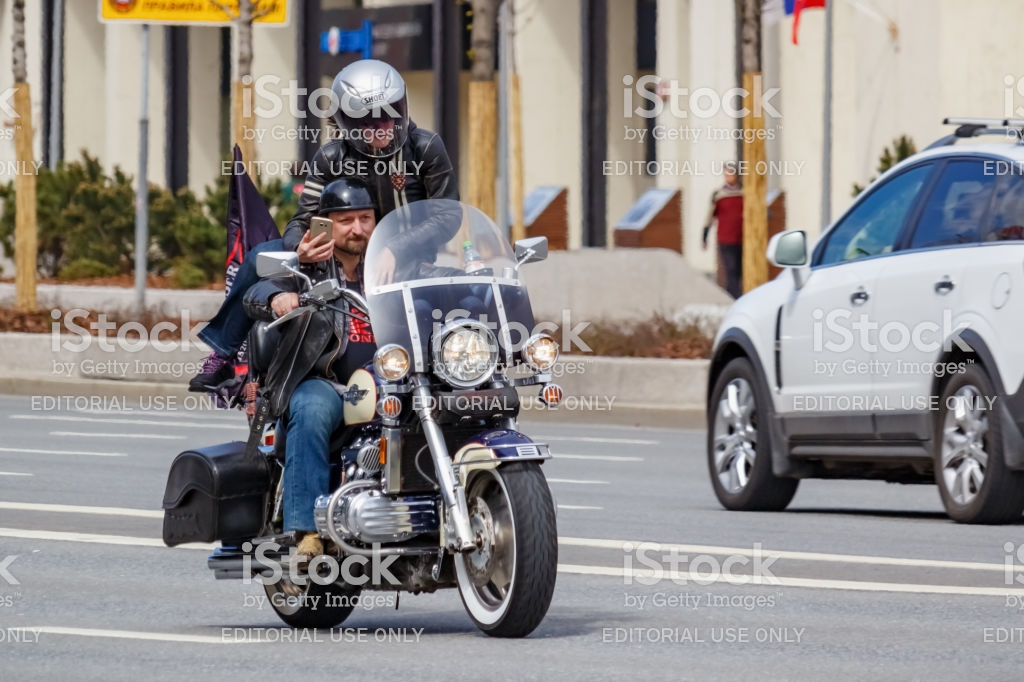helmet: (326, 52, 412, 157), (319, 173, 375, 214)
